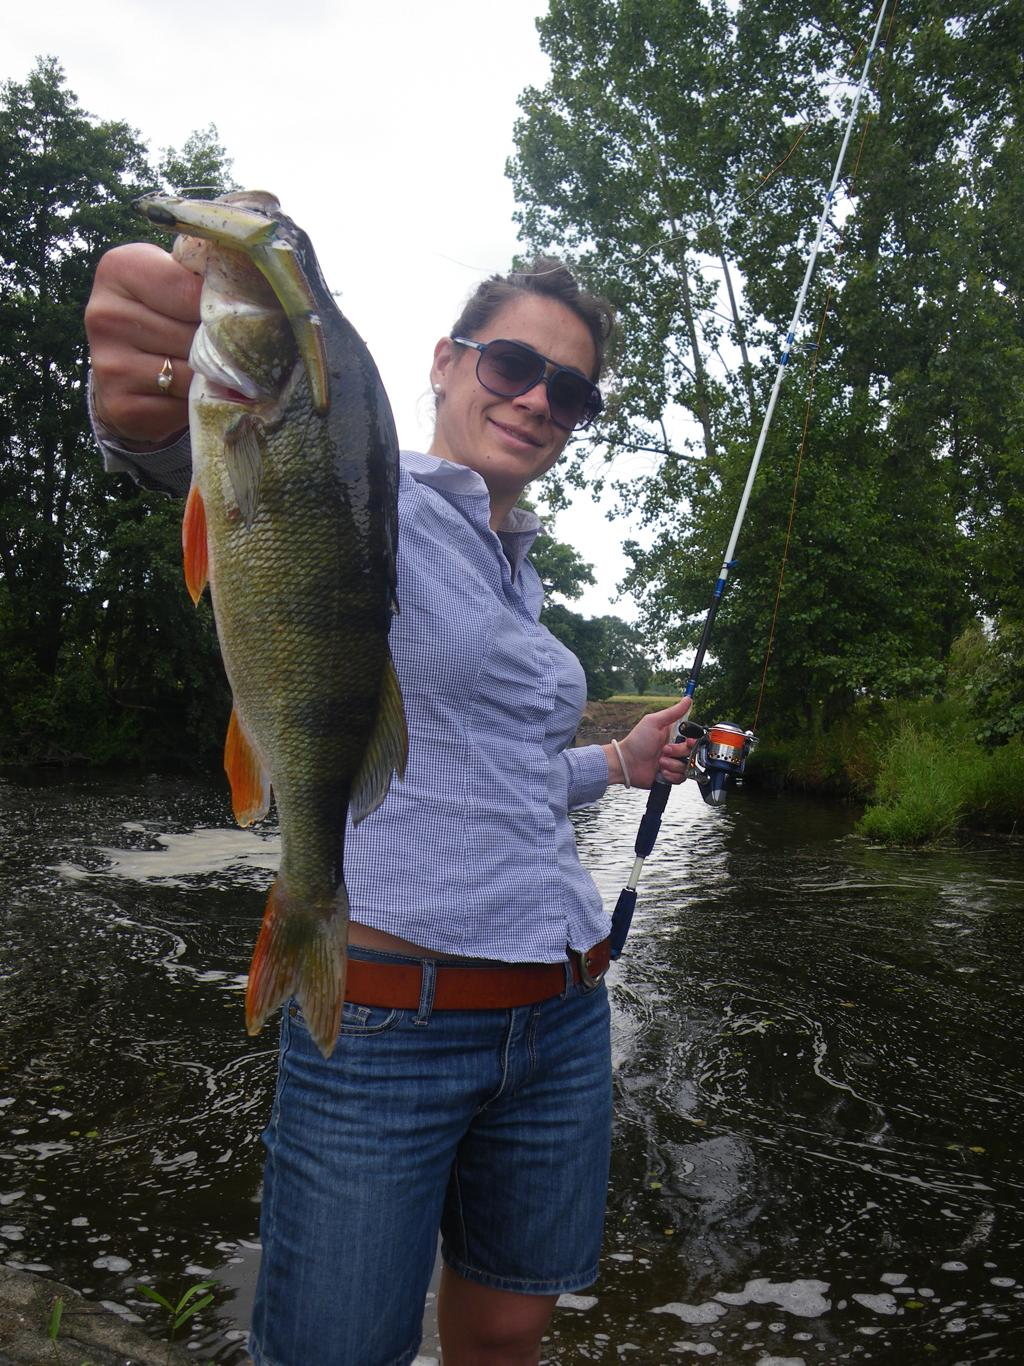face: (448, 296, 581, 472)
